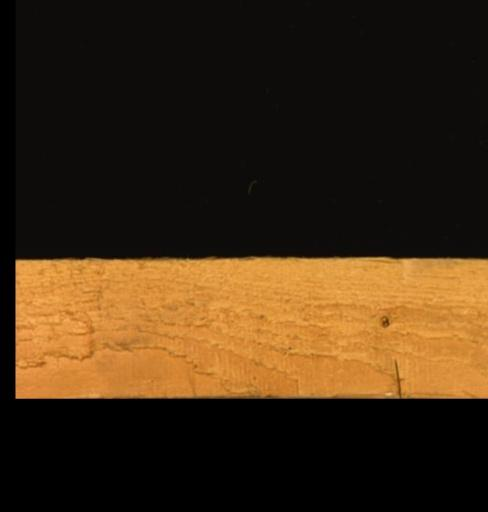dry_knot: (379, 312, 389, 327)
